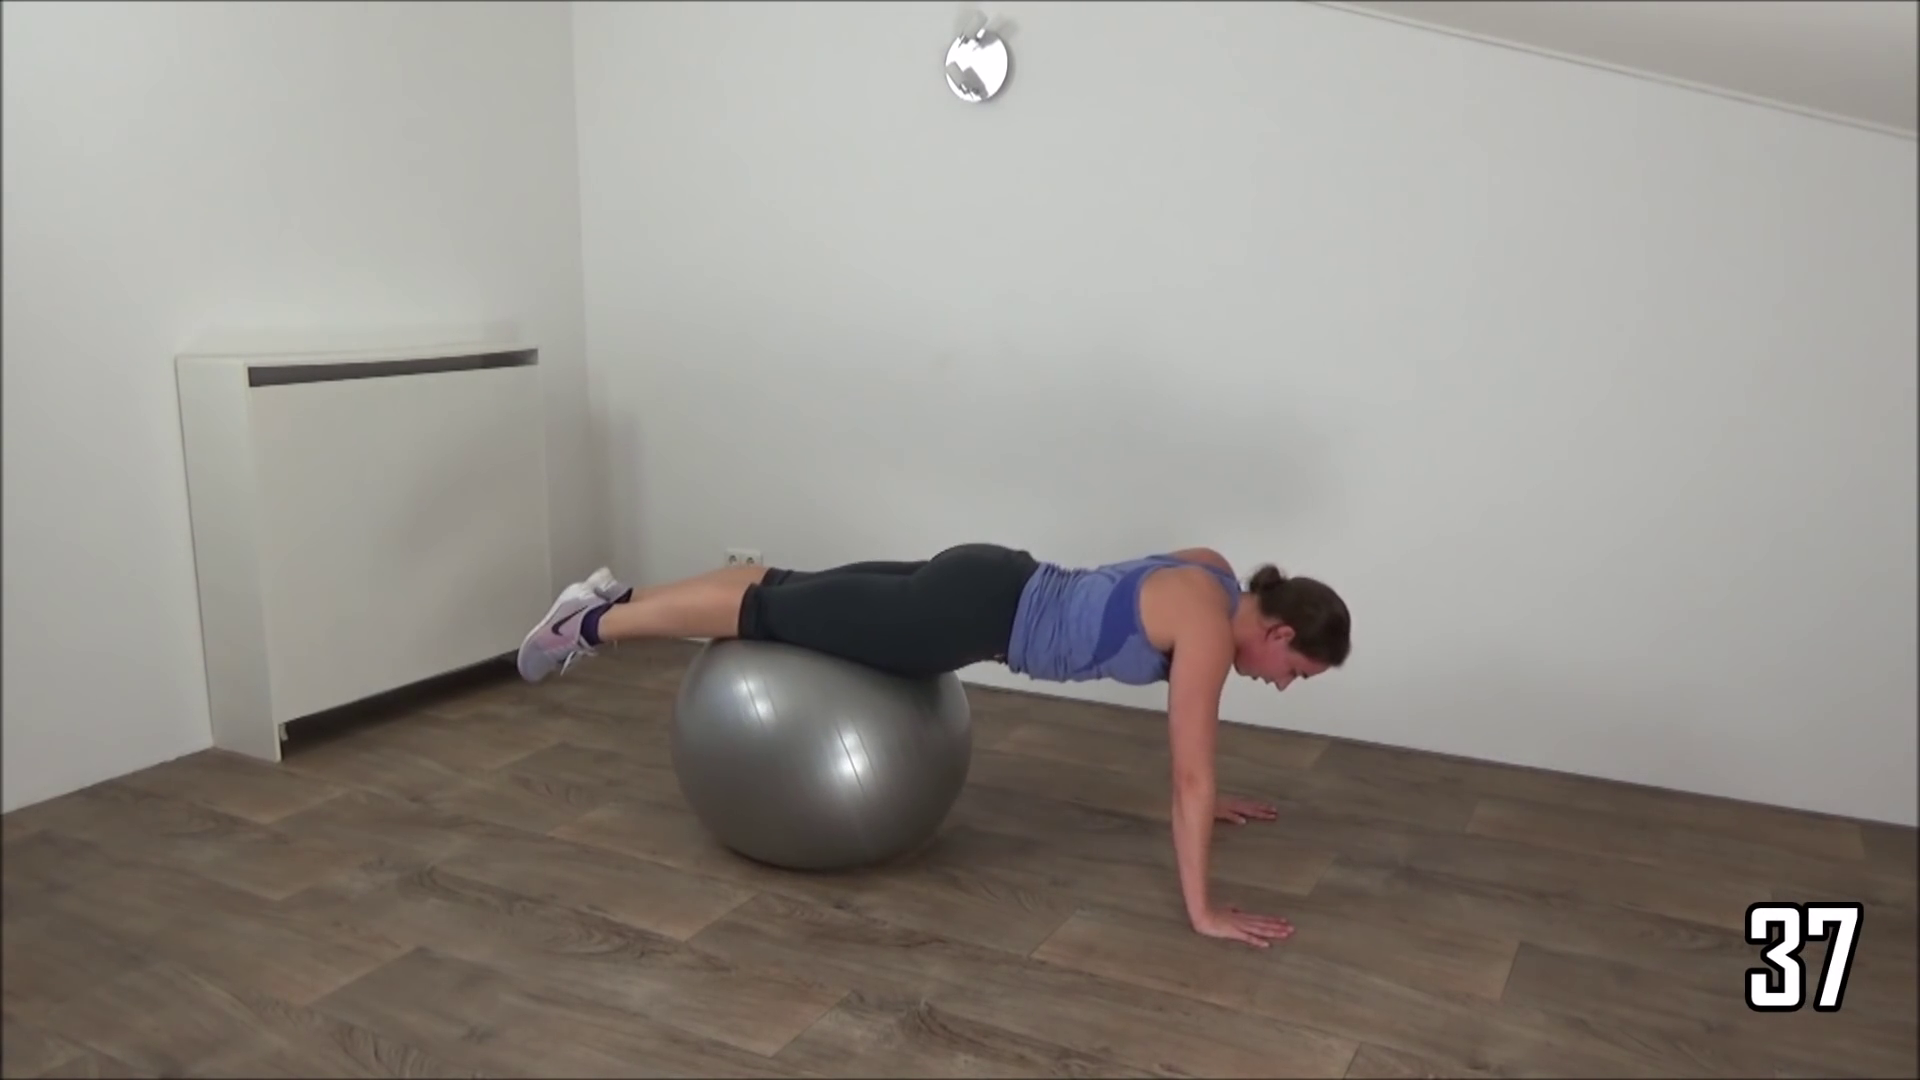yogaball: (662, 626, 986, 887)
